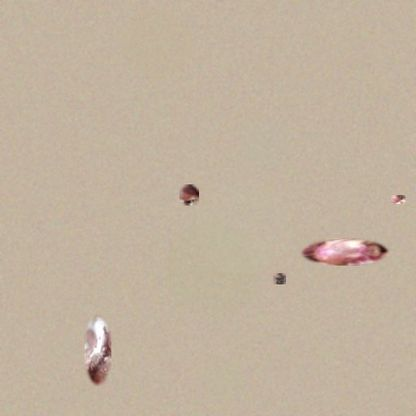rotten: (300, 238, 390, 266), (85, 314, 111, 386), (273, 273, 286, 284)
sprouted: (180, 184, 199, 206), (391, 195, 405, 204)
